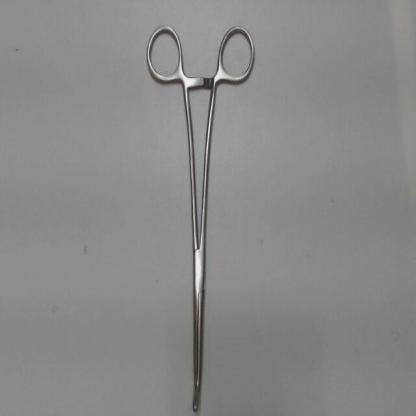Lahey Forceps: (137, 13, 259, 414)
